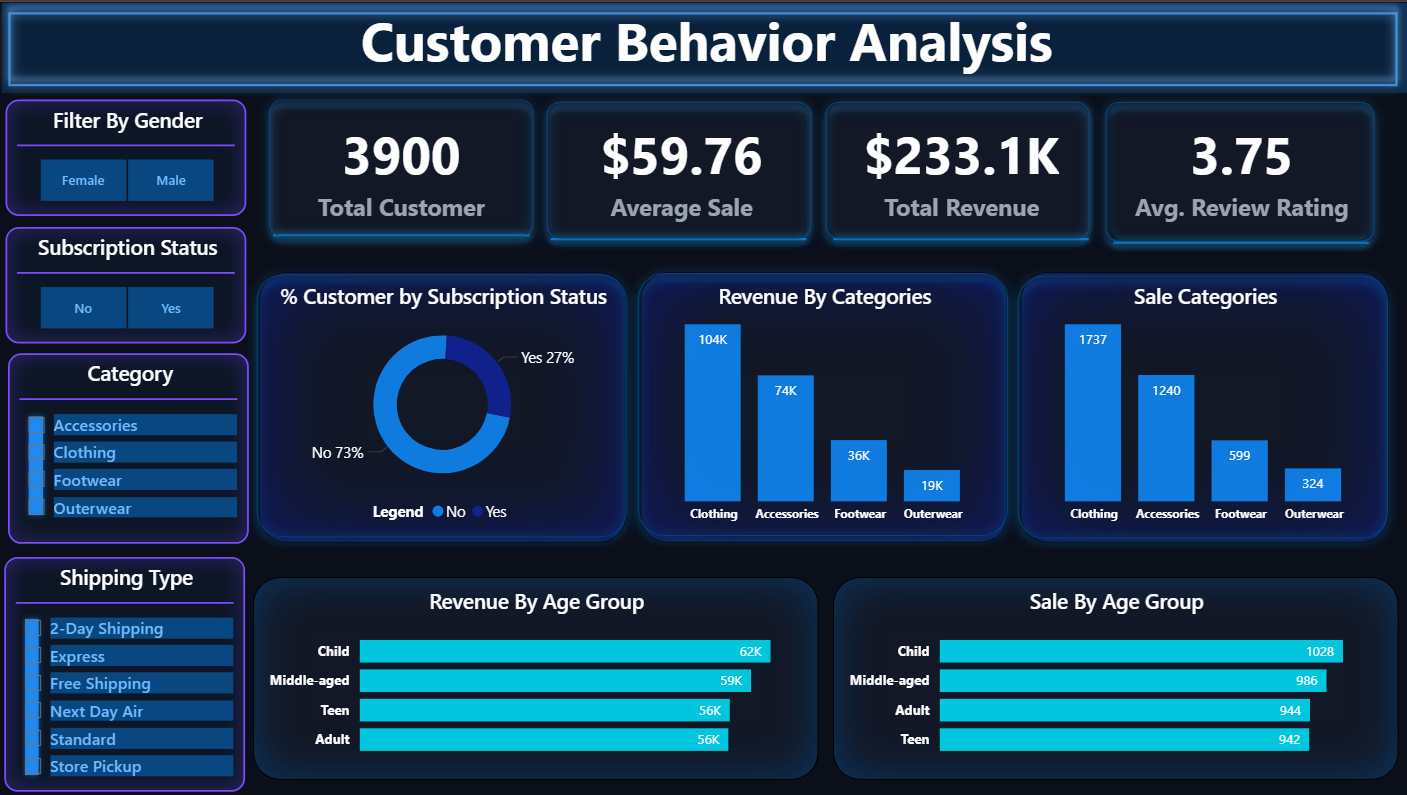

The page's visual inventory and layout, read from the dashboard file:
{"tool":"powerbi","page":{"name":"Details","canvas":[1280,720],"ordinal":1},"visuals":[{"type":"shape","box":[21.4,370,25.7,102],"z":0},{"type":"shape","box":[18.6,552.9,25,154.3],"z":1000},{"type":"slicer","title":"Shipping Type","fields":{"Values":["customer.shipping_type"]},"box":[5.7,502.9,218.6,212.9],"z":2000},{"type":"cardVisual","title":"hfgh","fields":{"Data":["customer.Total Customer","customer.Average Sale","Sum(customer.purchase_amount)","customer.Average Review Rating"]},"box":[241.1,84.9,1012.9,135.7],"z":3000},{"type":"donutChart","title":"% Customer by Subscription Status","fields":{"Category":["customer.subscription_status"],"Y":["CountNonNull(customer.customer_id)"]},"box":[237,244.5,332.7,245.4],"z":4000},{"type":"clusteredColumnChart","title":"Revenue By Categories ","fields":{"Y":["Sum(customer.purchase_amount)"],"Category":["customer.category"]},"box":[582.2,244.5,332.7,245.4],"z":5000},{"type":"clusteredColumnChart","title":"Sale Categories ","fields":{"Y":["CountNonNull(customer.customer_id)"],"Category":["customer.category"]},"box":[927.3,244.5,334,245.4],"z":6000},{"type":"slicer","title":"Filter By Gender","fields":{"Values":["customer.gender"]},"box":[7.1,88.6,218.6,105.7],"z":7000},{"type":"slicer","title":"Subscription Status","fields":{"Values":["customer.subscription_status"]},"box":[7.1,204.3,218.6,105.7],"z":8000},{"type":"slicer","title":"Category","fields":{"Values":["customer.category"]},"box":[8.6,318.6,218.6,172.9],"z":9000},{"type":"clusteredBarChart","title":"Revenue By Age Group","fields":{"Y":["Sum(customer.purchase_amount)"],"Category":["customer.age_group"]},"box":[230.9,521.4,512.9,183.6],"z":10000},{"type":"clusteredBarChart","title":"Sale By Age Group","fields":{"Y":["CountNonNull(customer.customer_id)"],"Category":["customer.age_group"]},"box":[757.7,521.4,512.9,183.6],"z":11000},{"type":"shape","box":[242.9,155.7,246.3,112.9],"z":12000},{"type":"shape","box":[224.3,237.1,355.7,258.6],"z":15000},{"type":"shape","box":[235.7,78.6,260,144.9],"z":17000},{"type":"shape","box":[994.3,80,264.3,147.1],"z":18000},{"type":"shape","box":[570,235.7,355.7,258.6],"z":19000},{"type":"shape","box":[914.3,238.6,355.7,258.6],"z":20000},{"type":"textbox","box":[2.9,1.4,1278.6,81.7],"z":21000},{"type":"shape","box":[0,0,1278.6,85.7],"z":22000},{"type":"shape","box":[494.3,158.6,245.7,112.9],"z":22001},{"type":"shape","box":[750,158.6,245.7,112.9],"z":22002},{"type":"shape","box":[1004.3,161.7,245.7,112.9],"z":22003},{"type":"shape","box":[486.9,80.6,260,144.3],"z":22004},{"type":"shape","box":[740.6,80.9,260,144.3],"z":22005}]}

Visuals, with their boxes in screenshot pixels (x1, y1, x2, y2), scaled from the page's 1280x720 canvas onto the 1407x795 screenshot:
shape: 24,409,52,521
shape: 20,610,48,781
"Shipping Type" slicer: 6,555,247,790
"hfgh" cardVisual: 265,94,1378,244
"% Customer by Subscription Status" donutChart: 261,270,626,541
"Revenue By Categories " clusteredColumnChart: 640,270,1006,541
"Sale Categories " clusteredColumnChart: 1019,270,1386,541
"Filter By Gender" slicer: 8,98,248,215
"Subscription Status" slicer: 8,226,248,342
"Category" slicer: 9,352,250,543
"Revenue By Age Group" clusteredBarChart: 254,576,818,778
"Sale By Age Group" clusteredBarChart: 833,576,1397,778
shape: 267,172,538,297
shape: 247,262,638,547
shape: 259,87,545,247
shape: 1093,88,1383,251
shape: 627,260,1018,546
shape: 1005,263,1396,549
textbox: 3,2,1406,92
shape: 0,0,1405,95
shape: 543,175,813,300
shape: 824,175,1094,300
shape: 1104,179,1374,303
shape: 535,89,821,248
shape: 814,89,1100,249
